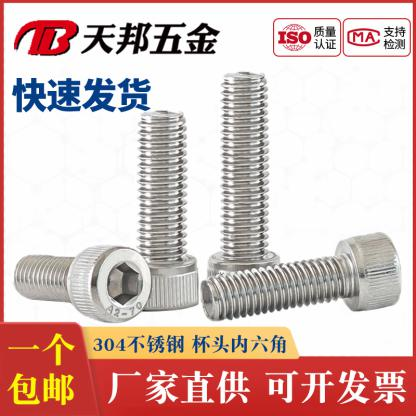FOD: (197, 230, 401, 321), (204, 74, 286, 298), (117, 108, 202, 312), (13, 242, 150, 324)
